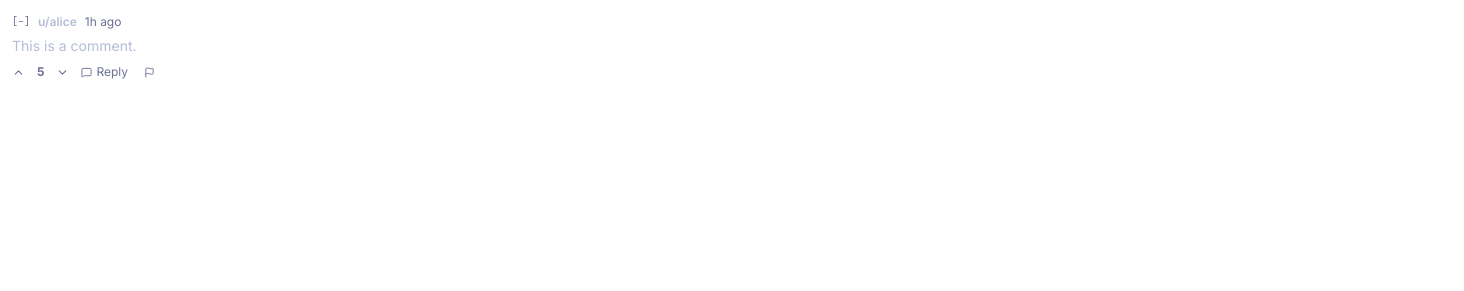
Test: CommentNode reply › opens reply composer when Reply is clicked
The image size is (1464, 291).
Click the button "Reply" at (105, 72), box [82, 64, 128, 80]
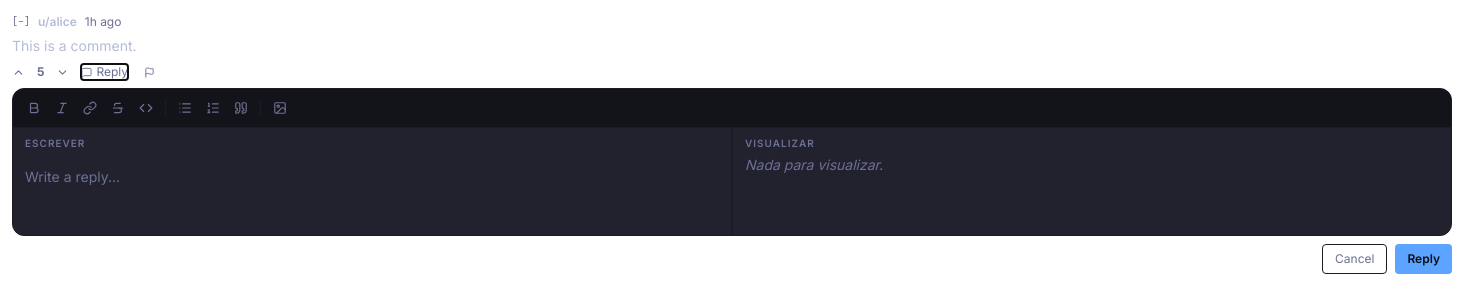
Now the text box with placeholder "Write a reply..." is shown, box [13, 155, 731, 235]
